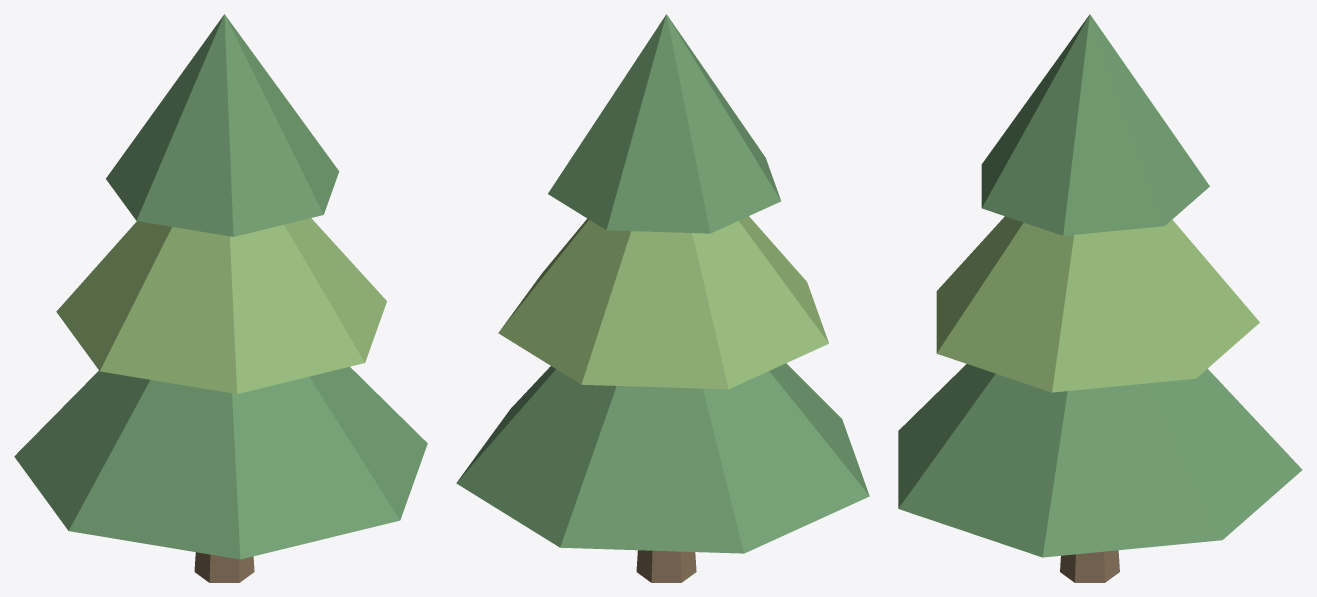
The model's file is civ_nature_pine.glb.
3 views of the same model, side by side, from view 1: azimuth 30°, elevation 25°; view 2: azimuth 150°, elevation 25°; view 3: azimuth 270°, elevation 25° (orthographic).
Visible parts, largest first — view 1: civ_nature_pine; view 2: civ_nature_pine; view 3: civ_nature_pine.
Boxes of the visible parts, x1=… form: civ_nature_pine: x1=14, y1=14, x2=427, y2=582; civ_nature_pine: x1=456, y1=14, x2=869, y2=582; civ_nature_pine: x1=898, y1=14, x2=1302, y2=582.
Size of the model in its own units: 1.66 by 2.46 by 1.62.
